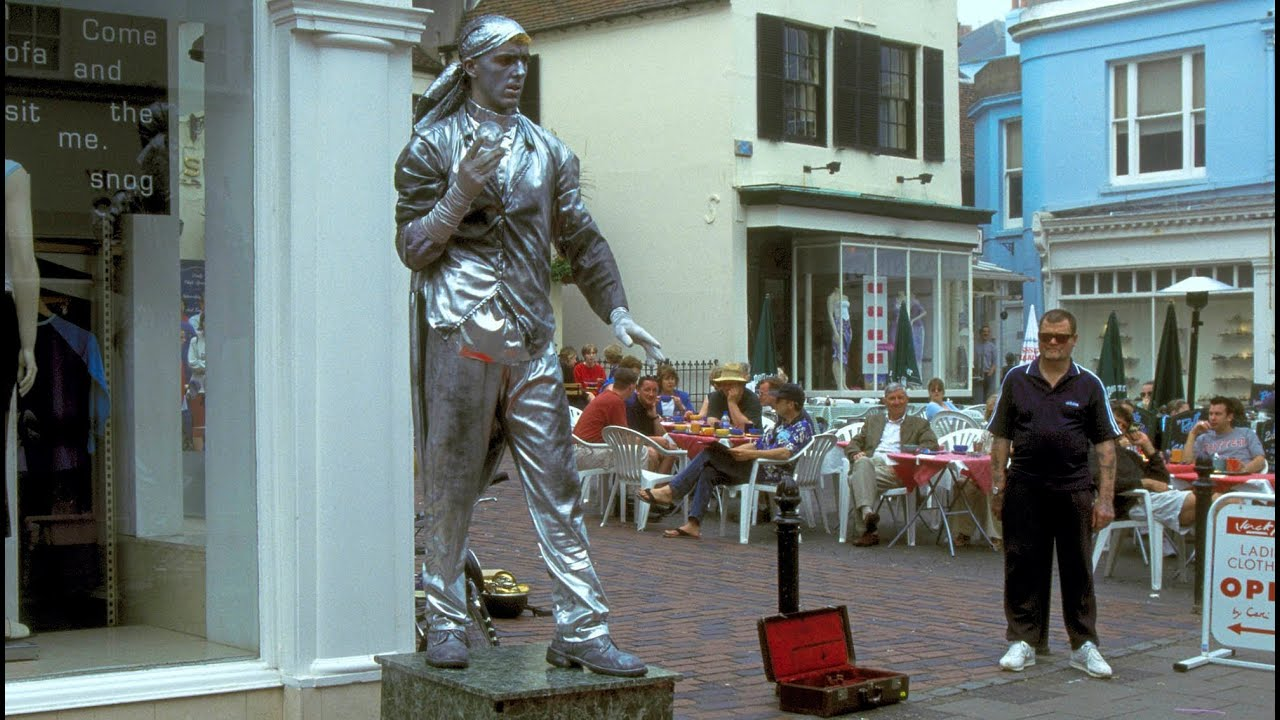person: (981, 305, 1123, 687), (637, 380, 814, 542), (835, 378, 942, 542), (1108, 398, 1197, 529), (1177, 390, 1268, 486), (685, 360, 764, 434), (573, 367, 637, 448), (638, 376, 664, 443), (570, 343, 606, 390), (923, 373, 957, 417)
person-like: (385, 13, 665, 684)
